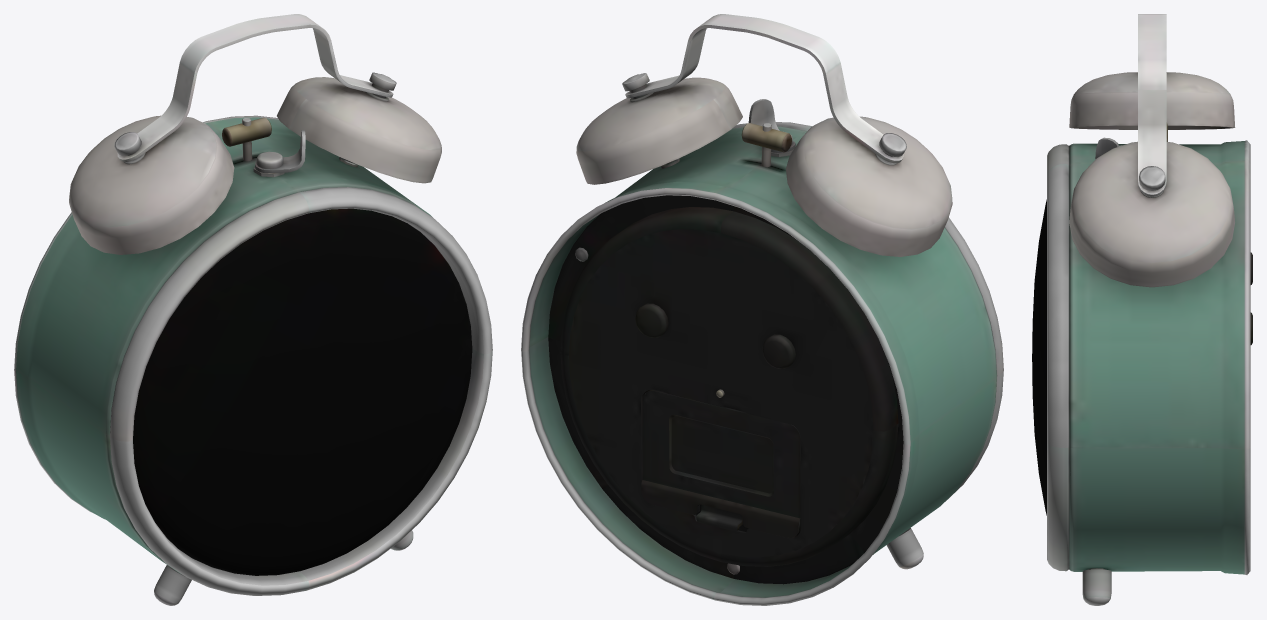
The model's file is alarm_clock_01.glb.
The picture shows the model from 3 angles, left to right: view 1: azimuth 30°, elevation 25°; view 2: azimuth 150°, elevation 25°; view 3: azimuth 270°, elevation 25°; orthographic projection. The views are drawn at different scales.
Visible parts, largest first — view 1: alarm_clock_01; view 2: alarm_clock_01; view 3: alarm_clock_01.
Part boxes in pixels (bbox=[...]): alarm_clock_01: bbox=[14, 14, 492, 605]; alarm_clock_01: bbox=[521, 14, 1003, 605]; alarm_clock_01: bbox=[1032, 14, 1252, 605].
Bounding box in the file's own units: 0.1317 × 0.1742 × 0.0667.
2 materials, 2 textured.
